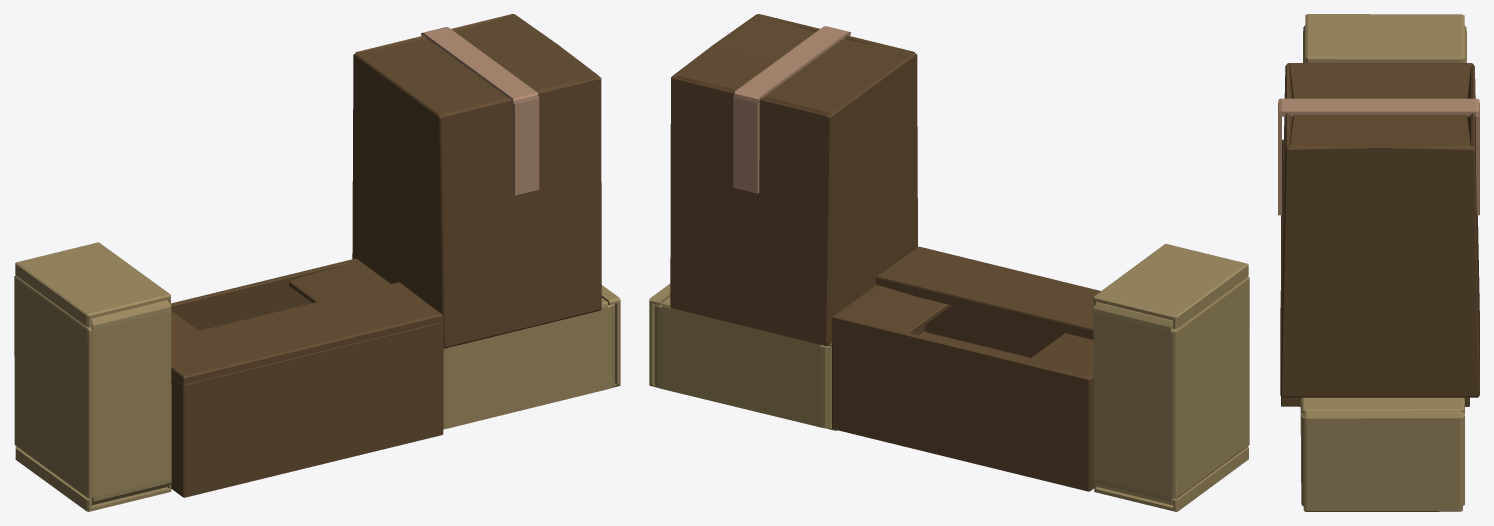
File: Boxes1.fbx
3 views of the same model, side by side, from view 1: azimuth 30°, elevation 25°; view 2: azimuth 150°, elevation 25°; view 3: azimuth 270°, elevation 25° (orthographic). The views are drawn at different scales.
Visible parts, largest first — view 1: Cube.010; view 2: Cube.010; view 3: Cube.010.
Part boxes in pixels (bbox=[...]): Cube.010: bbox=[14, 14, 620, 511]; Cube.010: bbox=[649, 14, 1249, 511]; Cube.010: bbox=[1278, 14, 1479, 511].
Size of the model in its own units: 371 by 216 by 112.
